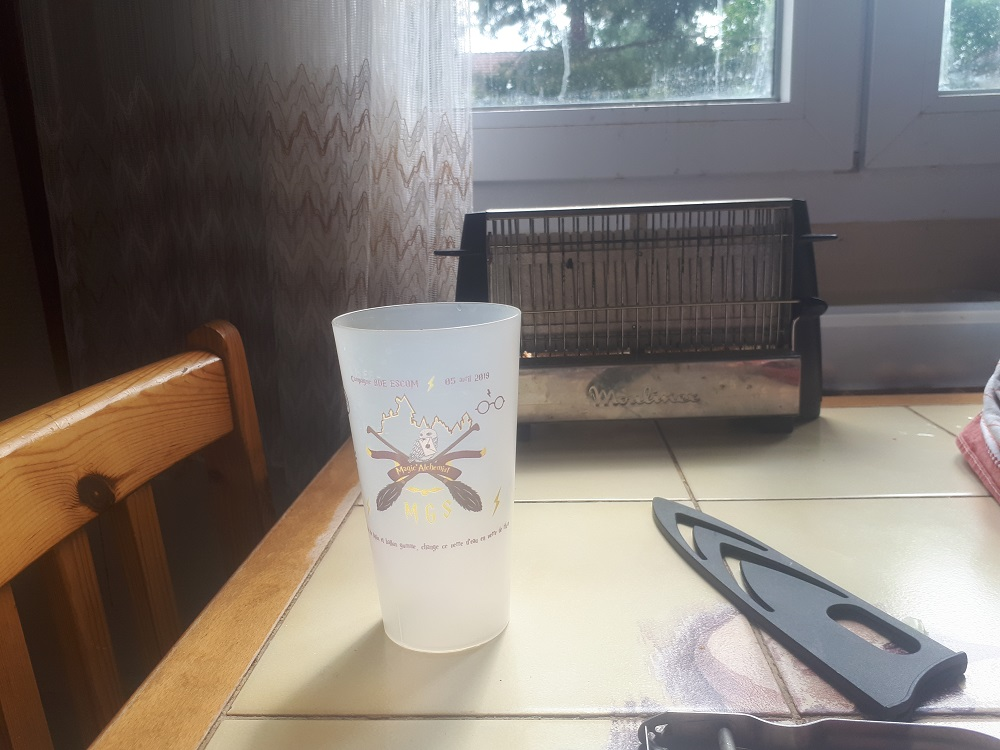ecocup: (329, 300, 522, 653)
